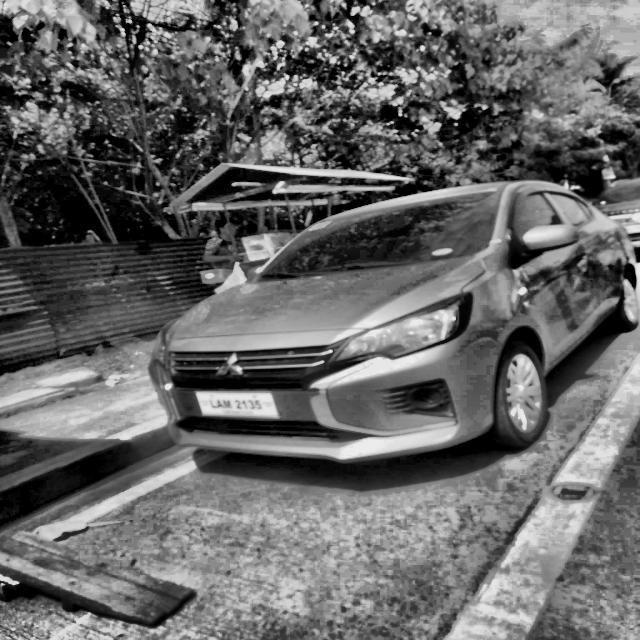license-plate: (195, 391, 281, 419)
